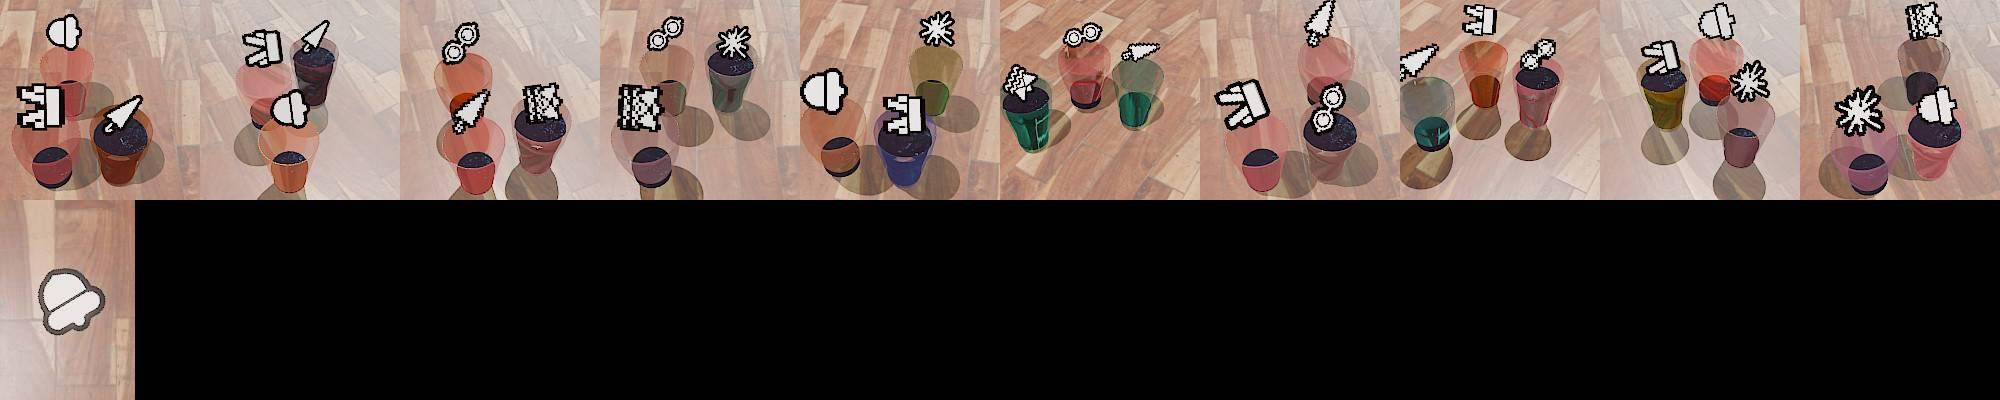icon: (37, 268, 107, 335), (1833, 84, 1885, 138), (1216, 76, 1267, 130), (616, 82, 665, 132), (15, 82, 65, 130), (1305, 79, 1347, 135), (800, 68, 848, 116), (881, 92, 927, 136), (452, 87, 492, 135), (522, 80, 565, 125), (1913, 84, 1958, 126), (440, 20, 481, 66), (1728, 59, 1769, 104), (241, 28, 284, 69), (101, 93, 145, 132), (1302, 0, 1338, 47), (270, 88, 311, 129), (1643, 38, 1684, 79), (712, 24, 755, 62), (1907, 1, 1946, 41), (1698, 1, 1736, 42), (1003, 64, 1043, 102), (647, 15, 687, 54), (917, 10, 957, 48), (1402, 42, 1440, 82), (46, 14, 83, 52), (1518, 37, 1556, 74), (1060, 22, 1102, 51), (1462, 3, 1497, 37), (298, 19, 330, 55), (1122, 41, 1161, 62)
